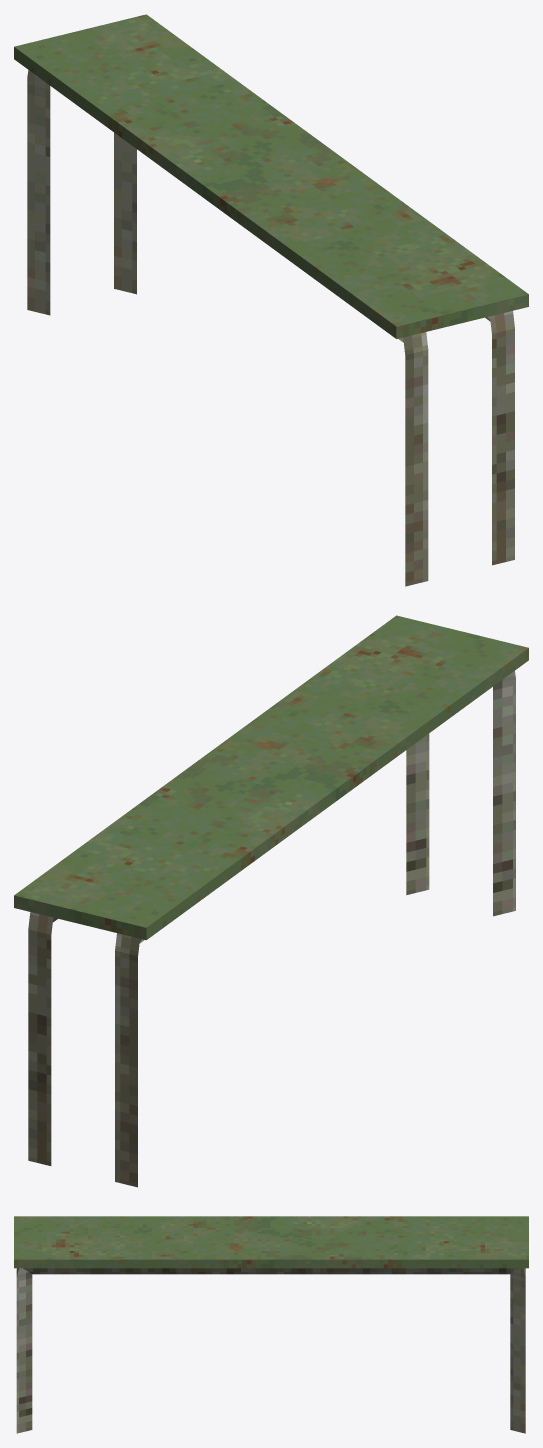
File: busstop_bench.glb
3 renders of one model, top to bottom at view 1: azimuth 30°, elevation 25°; view 2: azimuth 150°, elevation 25°; view 3: azimuth 270°, elevation 25°, orthographic. The views are drawn at different scales.
Parts seen in each view (by area): view 1: busstop_bench; view 2: busstop_bench; view 3: busstop_bench.
Boxes of the visible parts, bbox=[...] form: busstop_bench: bbox=[14, 14, 528, 586]; busstop_bench: bbox=[14, 615, 528, 1187]; busstop_bench: bbox=[14, 1216, 528, 1433].
Size of the model in its own units: 0.4 by 0.7619 by 2.
Materials: 1 (1 with a texture image).
